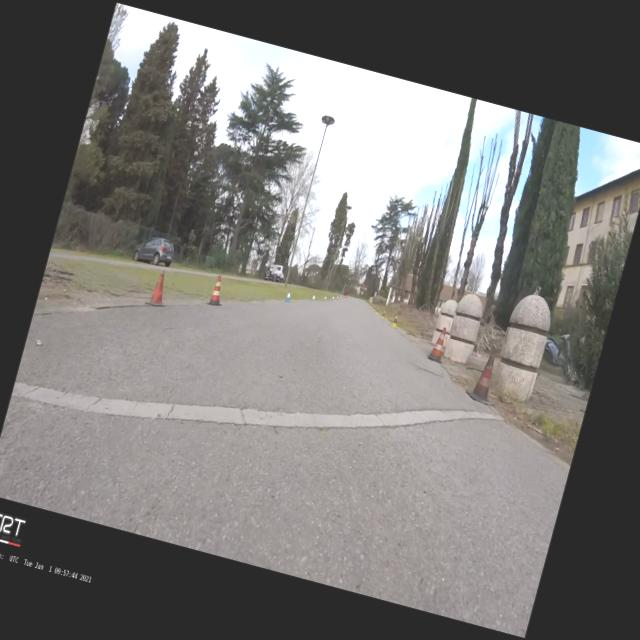blue_cone: (284, 288, 294, 302), (311, 294, 315, 300), (324, 296, 326, 300)
large_orange_cone: (463, 350, 504, 406), (144, 268, 174, 308), (426, 324, 450, 364), (206, 274, 228, 307)
yellow_cone: (390, 314, 398, 328), (380, 310, 386, 318), (376, 308, 378, 314), (372, 306, 375, 310)
